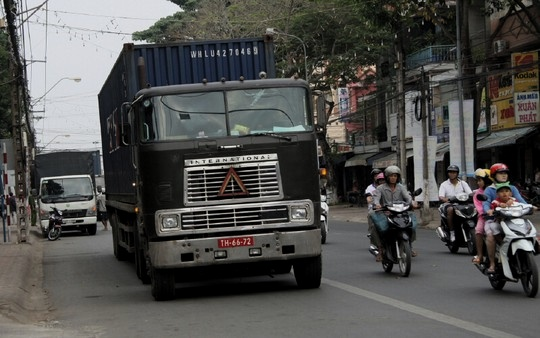plate: (214, 231, 254, 248)
